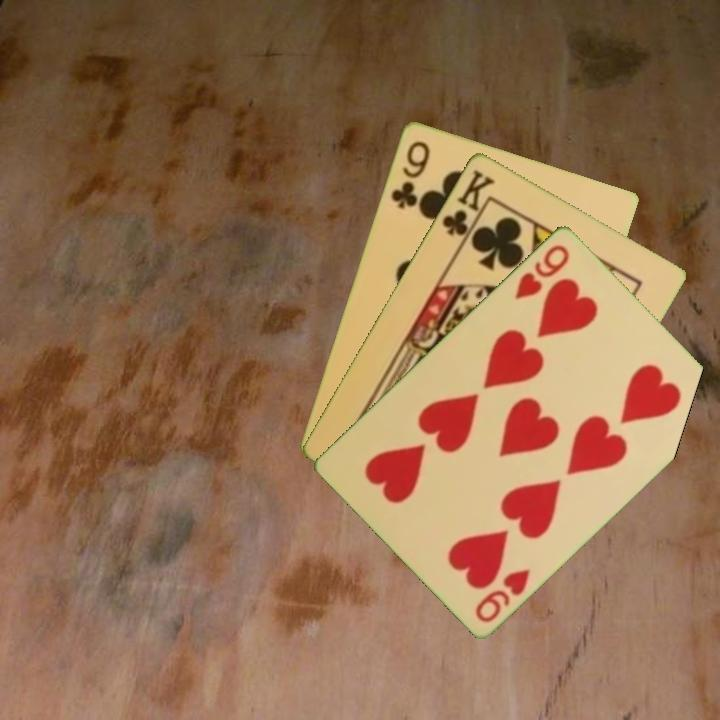9c: (387, 136, 433, 211)
9h: (471, 564, 534, 626), (511, 240, 573, 302)
Kc: (438, 165, 498, 247)
